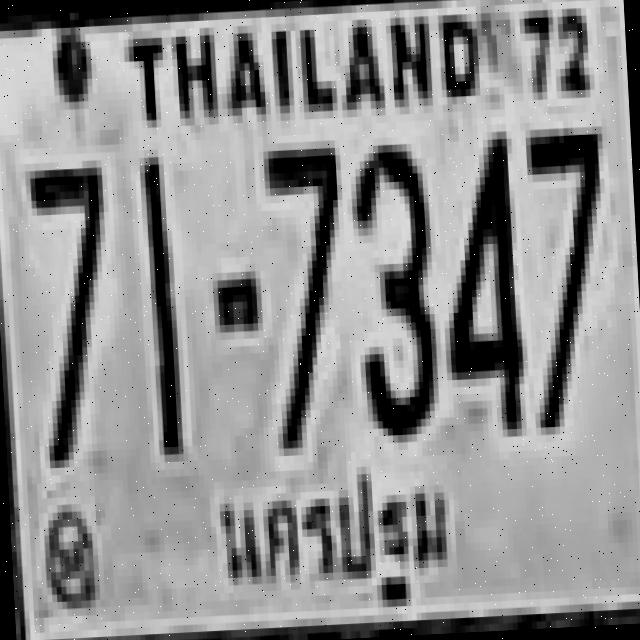1: (139, 154, 179, 452)
3: (349, 136, 436, 437)
4: (434, 124, 522, 425)
7: (258, 137, 350, 446), (520, 119, 612, 428), (25, 160, 112, 461)
NakhonPathom: (205, 458, 458, 620)
